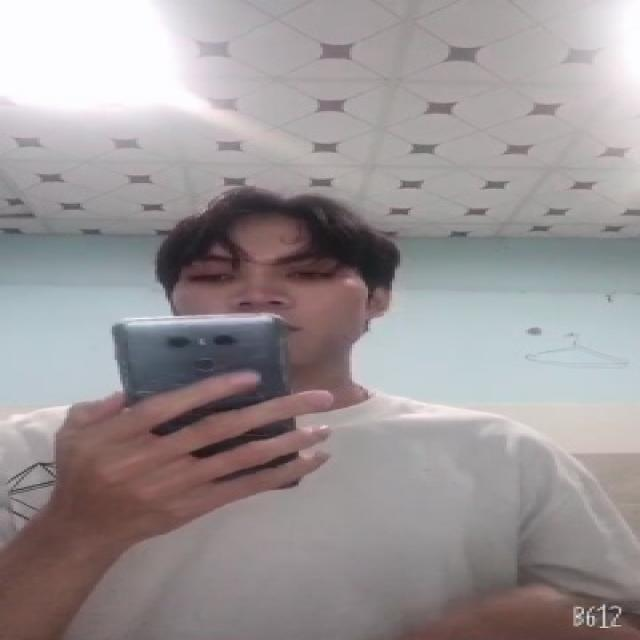Phone: (108, 314, 304, 488)
